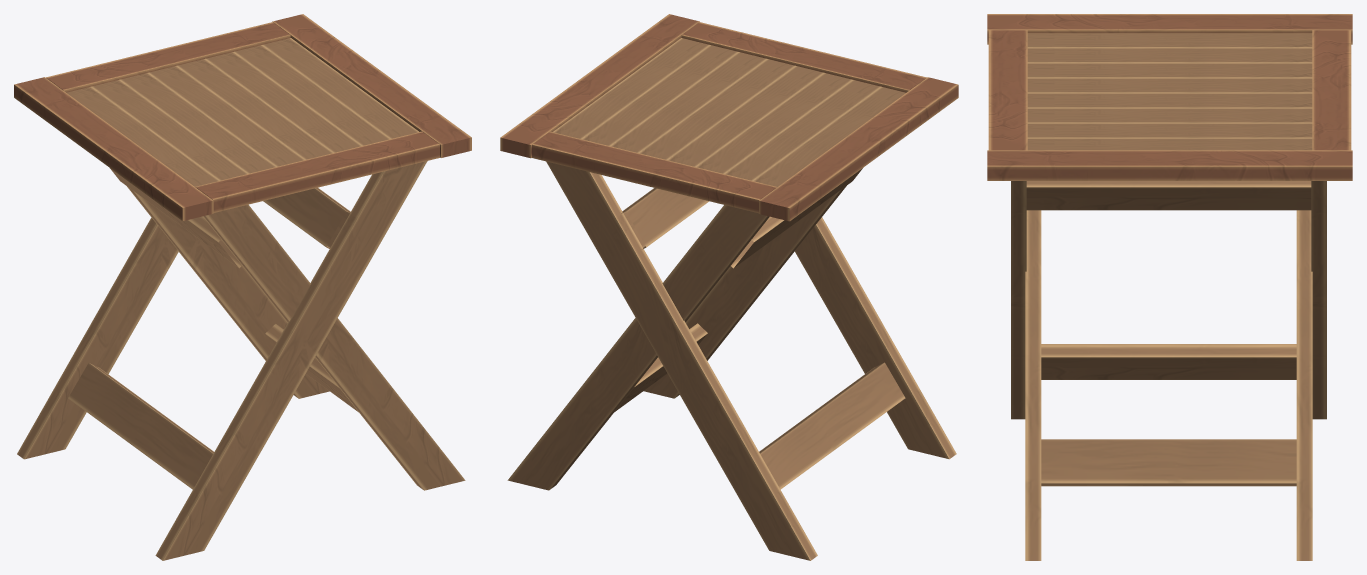
File: obj_wood_table.FBX
3 renders of one model, left to right at view 1: azimuth 30°, elevation 25°; view 2: azimuth 150°, elevation 25°; view 3: azimuth 270°, elevation 25°, orthographic. The views are drawn at different scales.
Parts seen in each view (by area): view 1: obj_wood_table; view 2: obj_wood_table; view 3: obj_wood_table.
Part boxes in pixels (x1,y1,x2,y2): obj_wood_table: [14, 14, 471, 560]; obj_wood_table: [500, 14, 958, 560]; obj_wood_table: [987, 14, 1352, 560].
Bounding box in the file's own units: 10.84 × 12.01 × 10.24.
